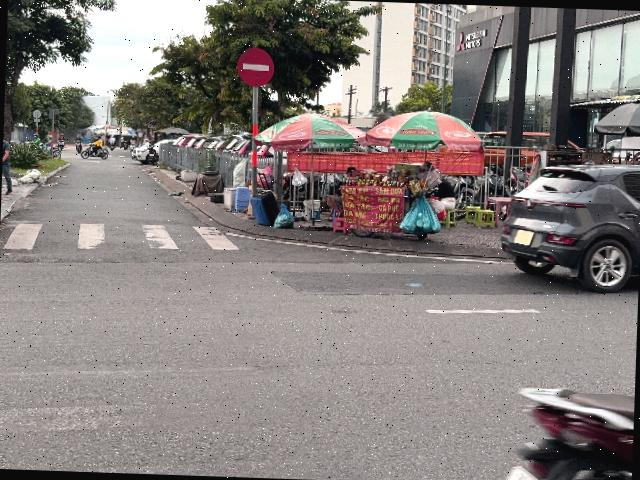cam-di-nguoc-chieu: (238, 46, 274, 88)
